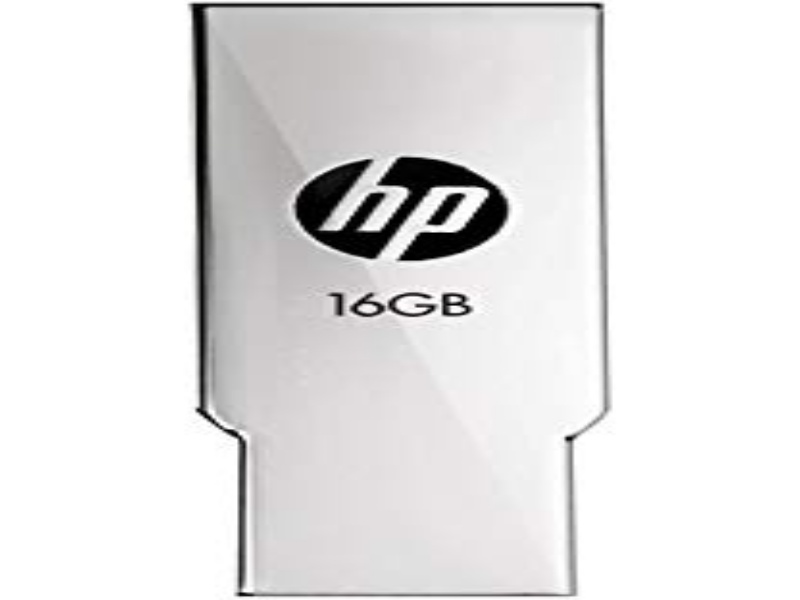hp: (330, 155, 497, 265)
